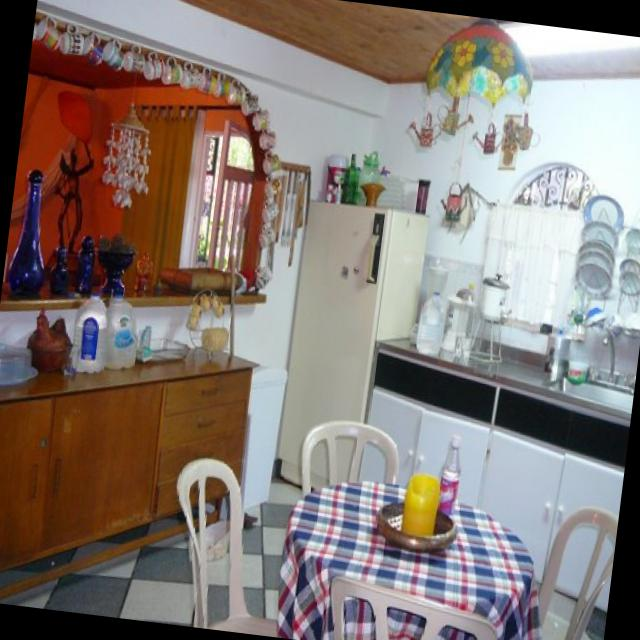bottle crop: (415, 290, 446, 358)
candle holder: (400, 472, 441, 536)
chair -occluded-: (174, 459, 276, 635), (332, 575, 498, 640), (538, 508, 616, 640), (302, 418, 397, 495)
floor -X: (0, 530, 191, 622), (248, 469, 299, 616)
jug: (69, 289, 107, 373)
lamp crop: (104, 102, 149, 205)
lampshade: (425, 24, 533, 107)
plate food: (575, 260, 612, 298)
refridgerator: (275, 198, 426, 479)
table -X: (278, 478, 540, 640)
vase -X: (5, 166, 44, 297)
watering can: (403, 107, 445, 151)
